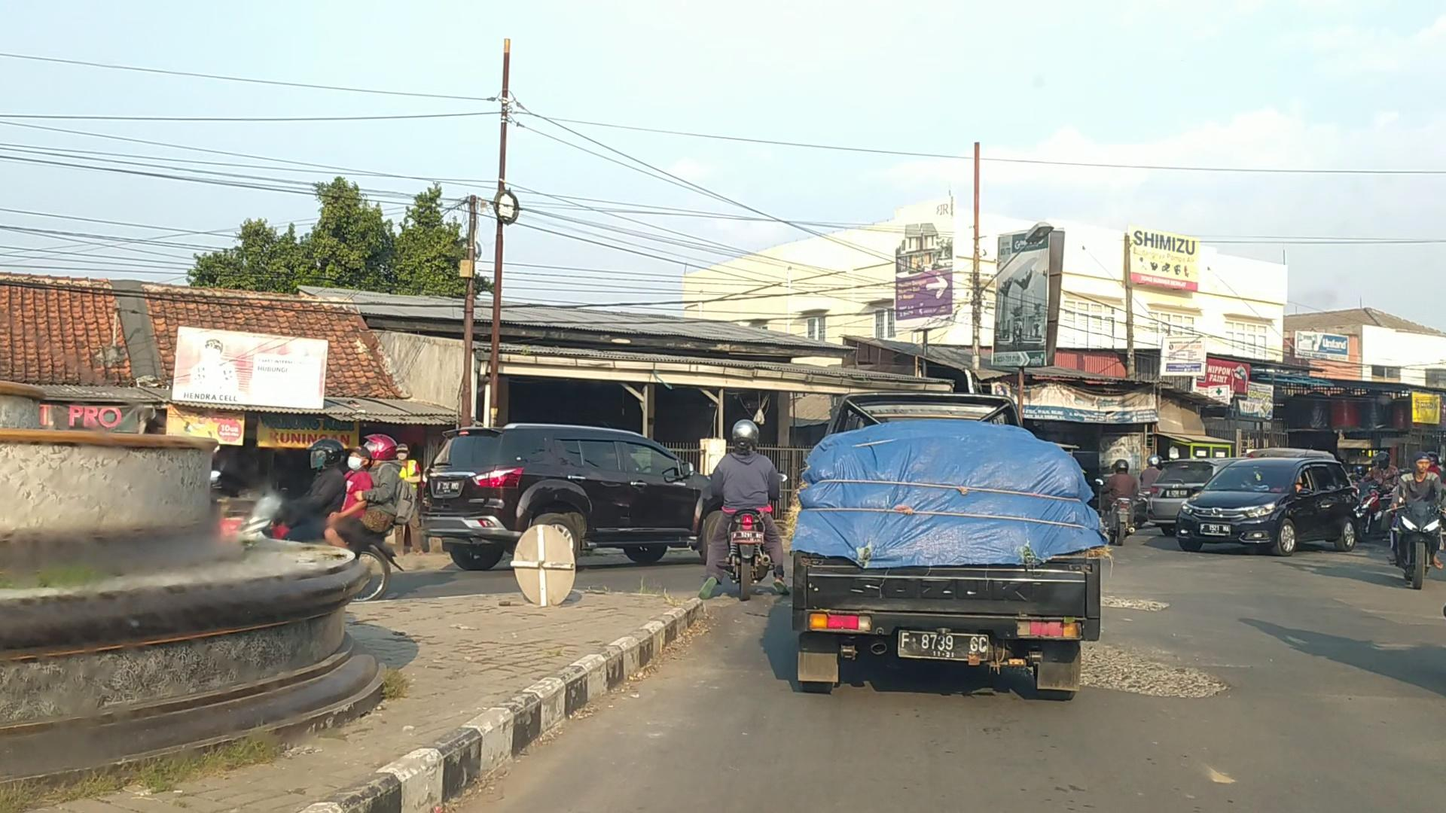pothole: (1078, 640, 1225, 698), (1101, 589, 1170, 613)
